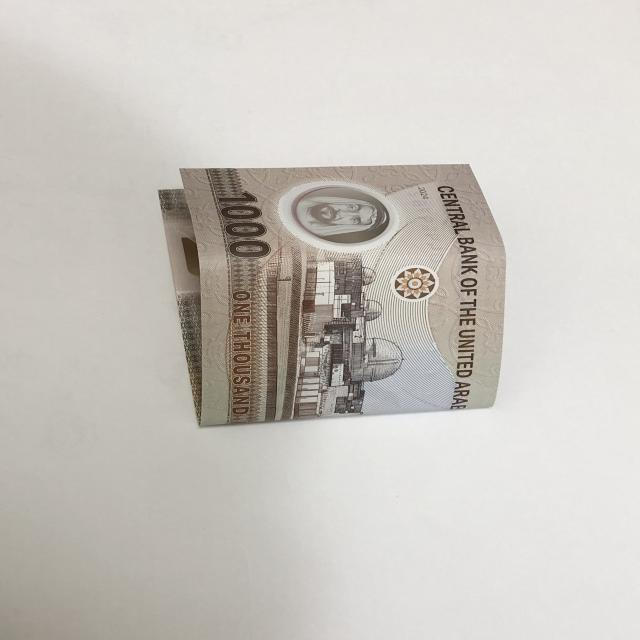1000_AED: (159, 159, 511, 429)
